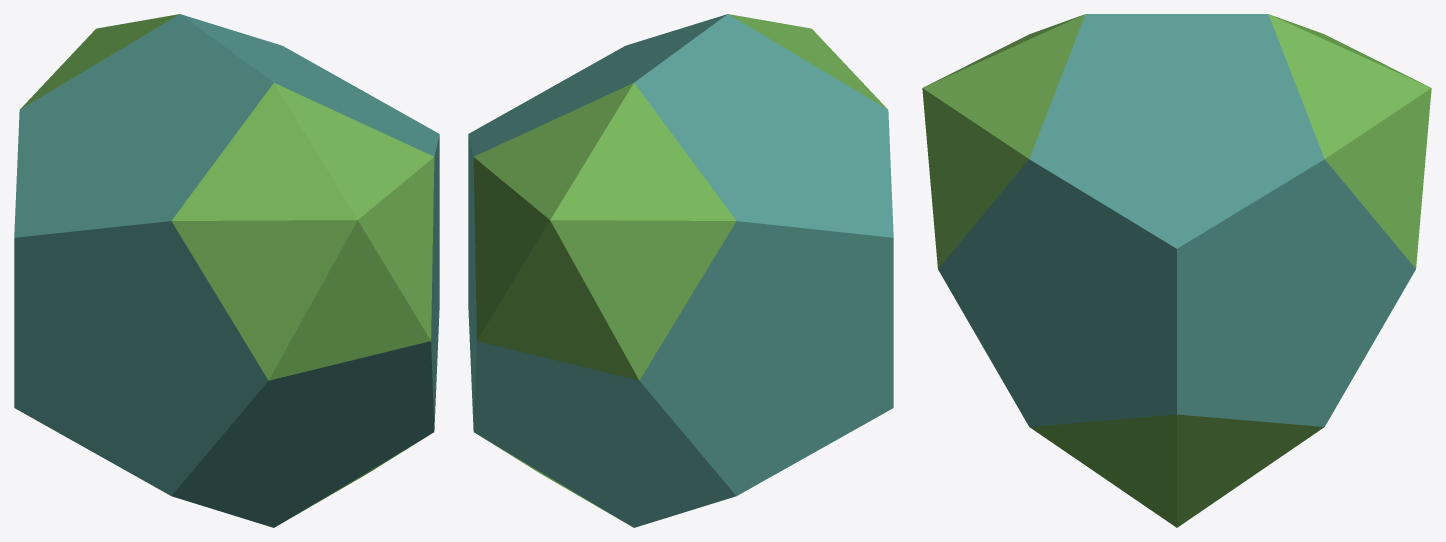
Rendered from J61.DodecaedroTriaumentado.gltf.
The picture shows the model from 3 angles, left to right: view 1: azimuth 30°, elevation 25°; view 2: azimuth 150°, elevation 25°; view 3: azimuth 270°, elevation 25°; orthographic projection. The views are drawn at different scales.
Parts seen in each view (by area): view 1: J61.DodecaedroTriaumentado; view 2: J61.DodecaedroTriaumentado; view 3: J61.DodecaedroTriaumentado.
Part boxes in pixels (left/top/right/bottom): J61.DodecaedroTriaumentado: left=14, top=14, right=439, bottom=527; J61.DodecaedroTriaumentado: left=468, top=14, right=893, bottom=527; J61.DodecaedroTriaumentado: left=922, top=14, right=1431, bottom=527.
Bounding box in the file's own units: 15.97 × 16.49 × 17.01.
